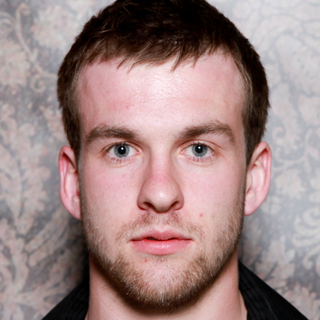eye: (173, 138, 222, 166), (94, 139, 142, 164)
